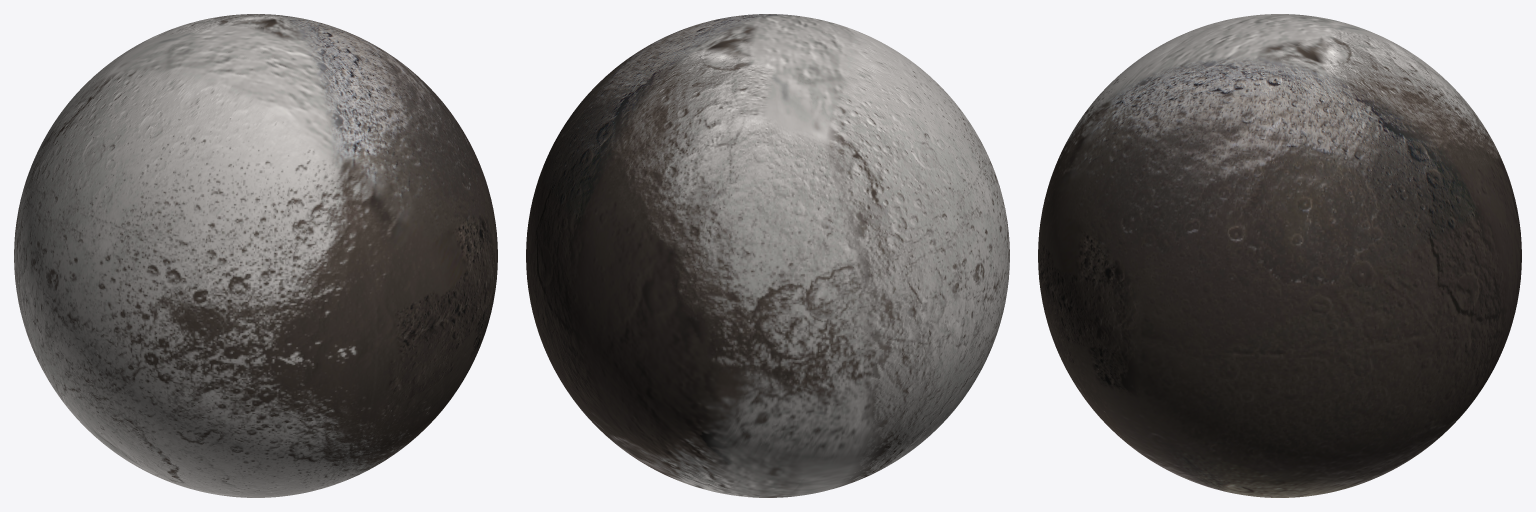
Rendered from moonlapetus.glb.
3 renders of one model, left to right at view 1: azimuth 30°, elevation 25°; view 2: azimuth 150°, elevation 25°; view 3: azimuth 270°, elevation 25°, orthographic.
Parts seen in each view (by area): view 1: cylindrically_mapped_sphere; view 2: cylindrically_mapped_sphere; view 3: cylindrically_mapped_sphere.
Part boxes in pixels (left/top/right/bottom): cylindrically_mapped_sphere: left=14, top=14, right=497, bottom=497; cylindrically_mapped_sphere: left=526, top=14, right=1009, bottom=497; cylindrically_mapped_sphere: left=1038, top=14, right=1521, bottom=497.
Size of the model in its own units: 1000 by 1000 by 1000.
Materials: 1 (1 with a texture image).
